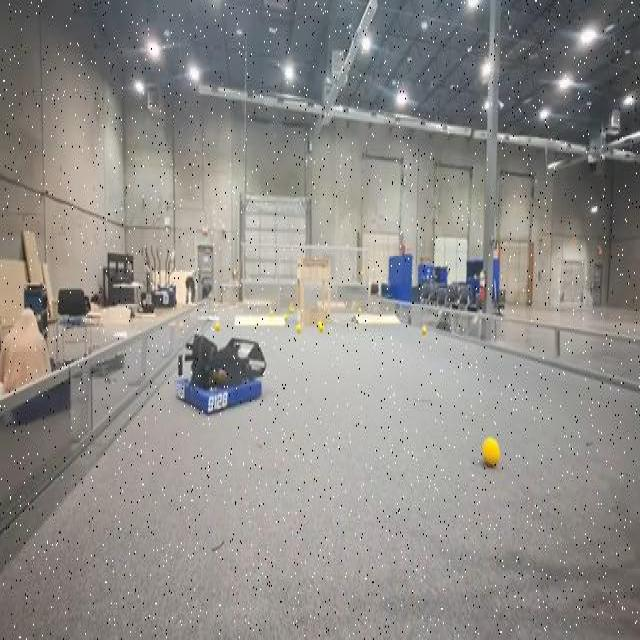Fuel: (482, 436, 500, 466), (482, 437, 499, 466), (317, 320, 323, 331), (296, 324, 302, 334), (422, 326, 427, 336), (422, 326, 427, 334), (215, 322, 220, 329)
